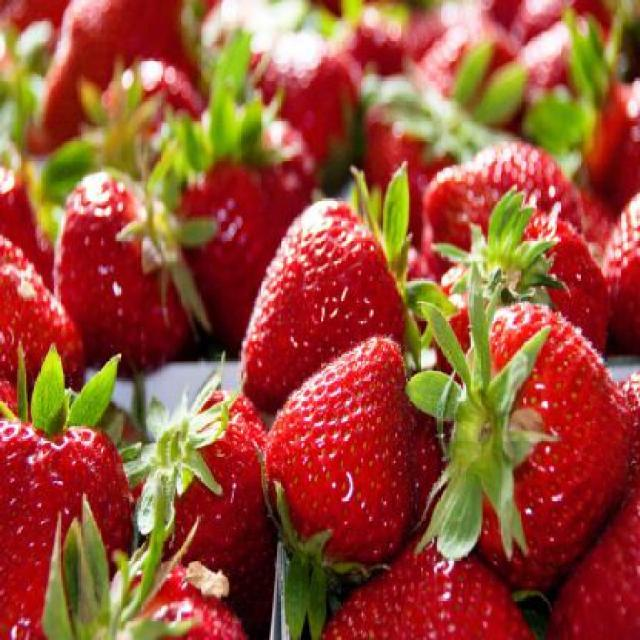Strawberry: (0, 0, 638, 638), (402, 256, 630, 586), (232, 153, 420, 410), (160, 34, 314, 346), (264, 328, 416, 640), (0, 344, 140, 640), (126, 342, 268, 606), (60, 460, 245, 638), (437, 182, 606, 360), (54, 176, 194, 362), (34, 0, 206, 143), (314, 528, 532, 640), (364, 78, 498, 240), (420, 144, 588, 270), (242, 36, 358, 190), (546, 487, 640, 640), (0, 226, 85, 388), (414, 12, 523, 138), (96, 54, 204, 170), (516, 5, 630, 104), (0, 161, 54, 301), (584, 80, 638, 211), (600, 178, 638, 356), (430, 254, 488, 368), (339, 0, 412, 75), (620, 362, 640, 488), (0, 370, 35, 426)
